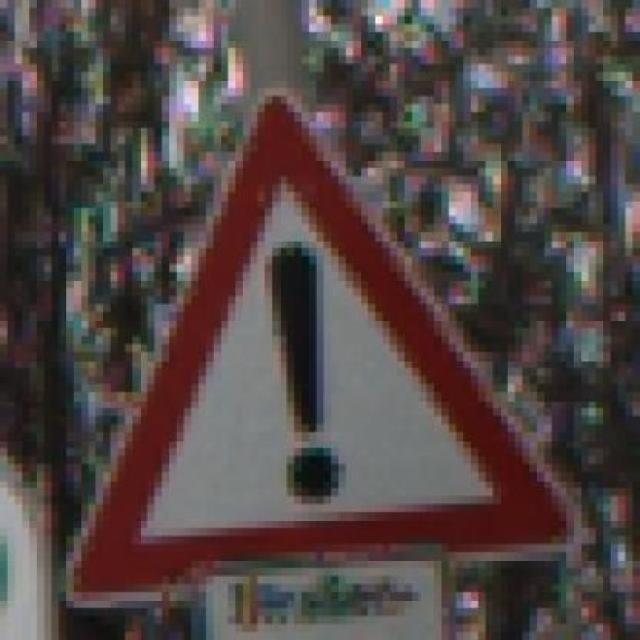Attention Please-: (66, 64, 582, 624)
